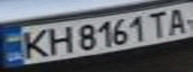1: (127, 12, 151, 43), (93, 18, 115, 48)
6: (112, 16, 133, 45)
8: (75, 20, 100, 51)
A: (163, 5, 193, 35)
H: (42, 24, 75, 55)
K: (15, 27, 54, 61)
T: (142, 8, 172, 38)
